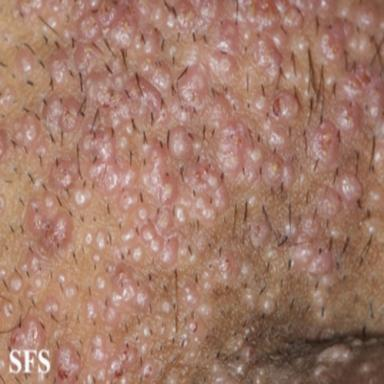Molluscum-Contagiosum: (0, 2, 384, 384)
